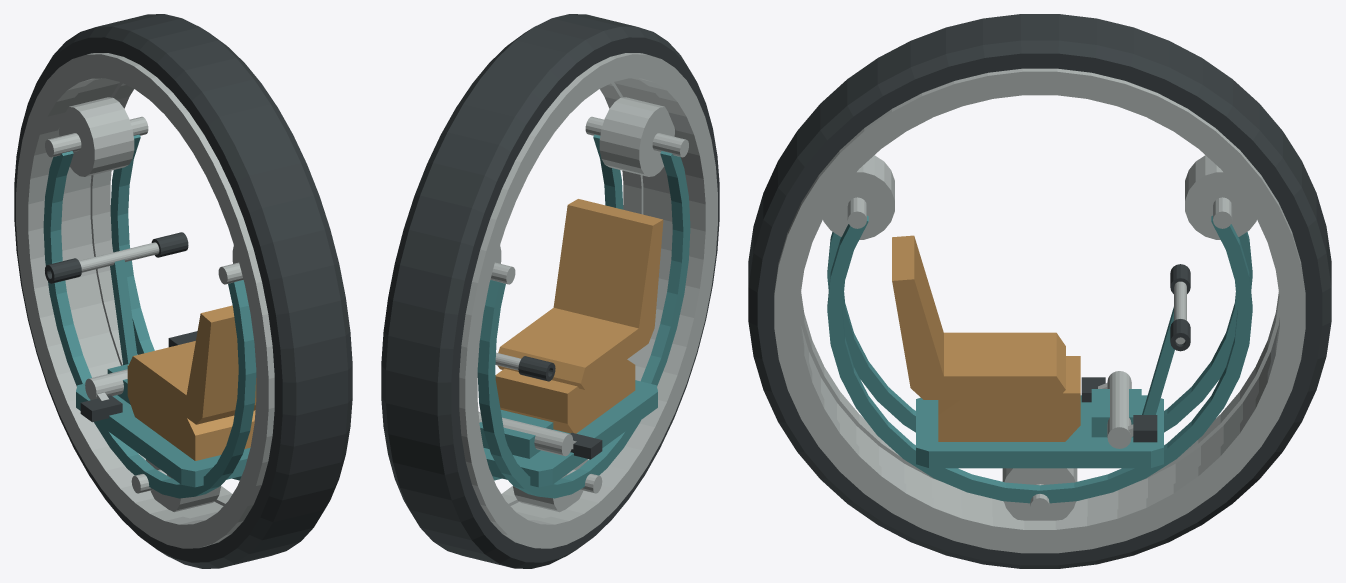
The picture shows the model from 3 angles, left to right: view 1: azimuth 30°, elevation 25°; view 2: azimuth 150°, elevation 25°; view 3: azimuth 270°, elevation 25°; orthographic projection. The views are drawn at different scales.
Parts seen in each view (by area): view 1: WholeLargeOuterRoadTyre, WholeInnerTrackAndSideLips, WholeLeftInternalCarriageArc, WholeInternalSeatAndLeaningBack, WholeInternalTrackRoller2, WholeLowClosedDriveCase, WholeLowCarriagePlatform, WholeRightInternalCarriageArc, WholeForwardBentGripStem, WholeLowGripCrossbar, WholeInternalRollerAxle2, WholeInternalTrackRoller1 (+4 smaller); view 2: WholeLargeOuterRoadTyre, WholeInnerTrackAndSideLips, WholeInternalSeatAndLeaningBack, WholeLeftInternalCarriageArc, WholeLowClosedDriveCase, WholeInternalTrackRoller0, WholeLowCarriagePlatform, WholeFootAxisMount, WholeLowerFootAxis, WholeInternalRollerAxle0, WholeRightInternalCarriageArc, WholeInternalTrackRoller1 (+2 smaller); view 3: WholeLargeOuterRoadTyre, WholeInnerTrackAndSideLips, WholeInternalSeatAndLeaningBack, WholeRightInternalCarriageArc, WholeLowCarriagePlatform, WholeLowClosedDriveCase, WholeLeftInternalCarriageArc, WholeInternalTrackRoller0, WholeInternalTrackRoller2, WholeInternalTrackRoller1, WholeLowerFootAxis, WholeFootAxisMount (+1 smaller).
Part boxes in pixels (x1,y1,x2,y2): WholeLargeOuterRoadTyre: (14, 14, 352, 568); WholeInnerTrackAndSideLips: (16, 53, 274, 548); WholeLeftInternalCarriageArc: (43, 151, 256, 498); WholeInternalSeatAndLeaningBack: (128, 305, 256, 424); WholeInternalTrackRoller2: (59, 97, 134, 176); WholeLowClosedDriveCase: (127, 365, 255, 460); WholeLowCarriagePlatform: (76, 383, 250, 487); WholeRightInternalCarriageArc: (110, 134, 241, 480); WholeForwardBentGripStem: (110, 259, 137, 365); WholeLowGripCrossbar: (79, 242, 159, 272); WholeInternalRollerAxle2: (45, 116, 148, 157); WholeInternalTrackRoller1: (146, 459, 220, 512); WholeLargeOuterRoadTyre: (381, 14, 719, 568); WholeInnerTrackAndSideLips: (459, 53, 717, 548); WholeInternalSeatAndLeaningBack: (497, 199, 663, 389); WholeLeftInternalCarriageArc: (477, 151, 690, 498); WholeLowClosedDriveCase: (495, 359, 635, 433); WholeInternalTrackRoller0: (599, 97, 674, 176); WholeLowCarriagePlatform: (483, 380, 657, 487); WholeFootAxisMount: (479, 410, 553, 458); WholeLowerFootAxis: (478, 412, 573, 456); WholeInternalRollerAxle0: (585, 116, 688, 157); WholeRightInternalCarriageArc: (492, 134, 623, 480); WholeInternalTrackRoller1: (513, 459, 587, 512); WholeLargeOuterRoadTyre: (748, 14, 1331, 568); WholeInnerTrackAndSideLips: (774, 68, 1305, 553); WholeInternalSeatAndLeaningBack: (892, 235, 1065, 399); WholeRightInternalCarriageArc: (827, 215, 1252, 503); WholeLowCarriagePlatform: (916, 395, 1163, 468); WholeLowClosedDriveCase: (938, 356, 1080, 441); WholeLeftInternalCarriageArc: (827, 232, 1252, 432); WholeInternalTrackRoller0: (823, 155, 894, 239); WholeInternalTrackRoller2: (1185, 155, 1256, 239); WholeInternalTrackRoller1: (1002, 468, 1077, 520); WholeLowerFootAxis: (1107, 371, 1131, 448); WholeFootAxisMount: (1091, 389, 1141, 437).
Size of the model in its own units: 0.94 by 3.15 by 3.15.
